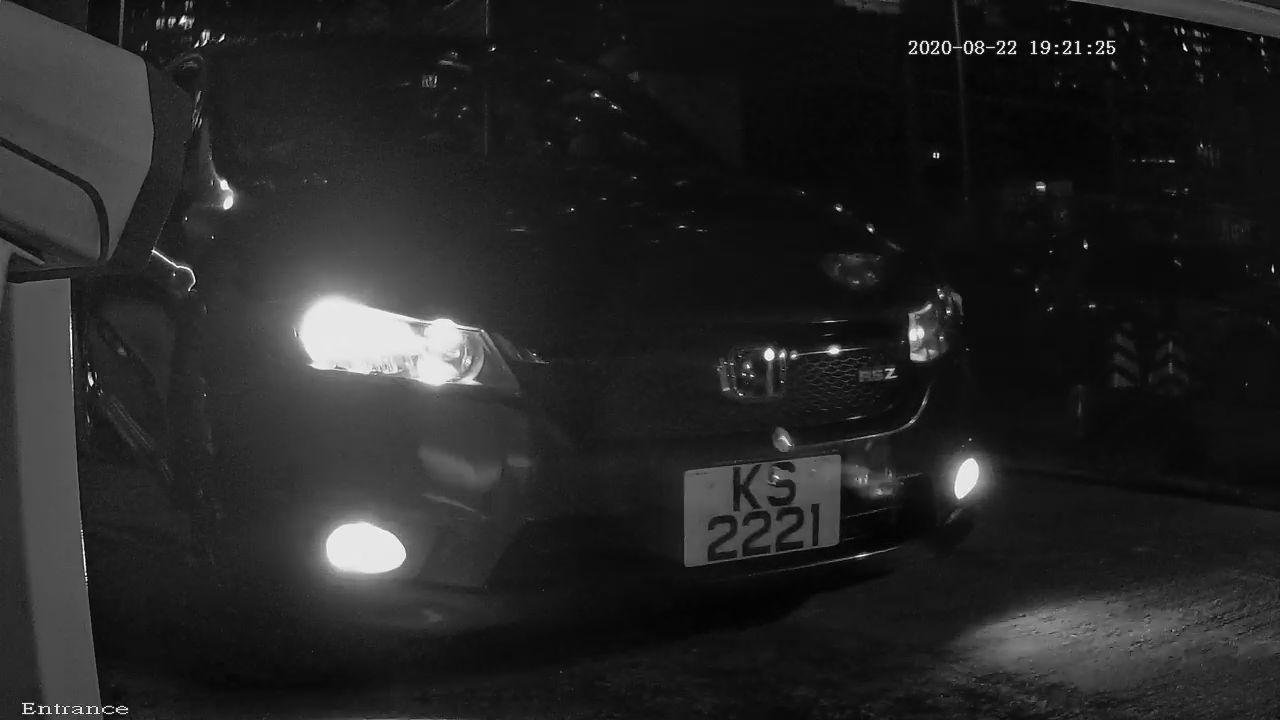Car: (41, 17, 1115, 720)
License Plate: (658, 451, 869, 582)
